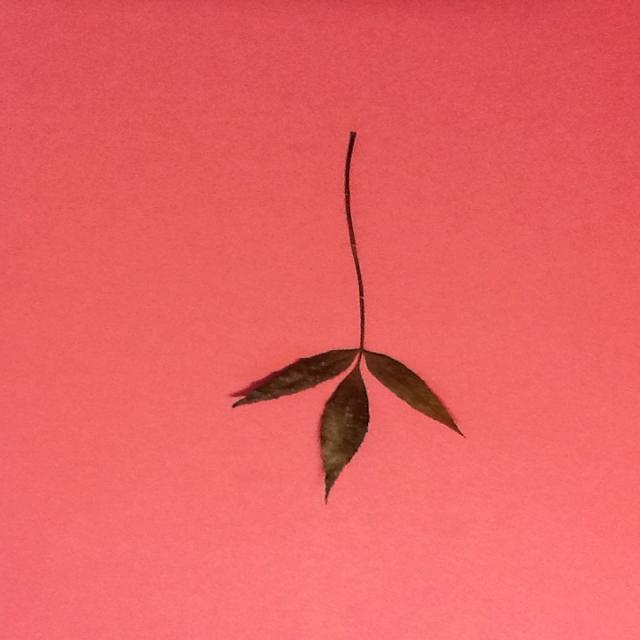foliage: (364, 352, 460, 442), (231, 349, 361, 412), (318, 363, 370, 509)
